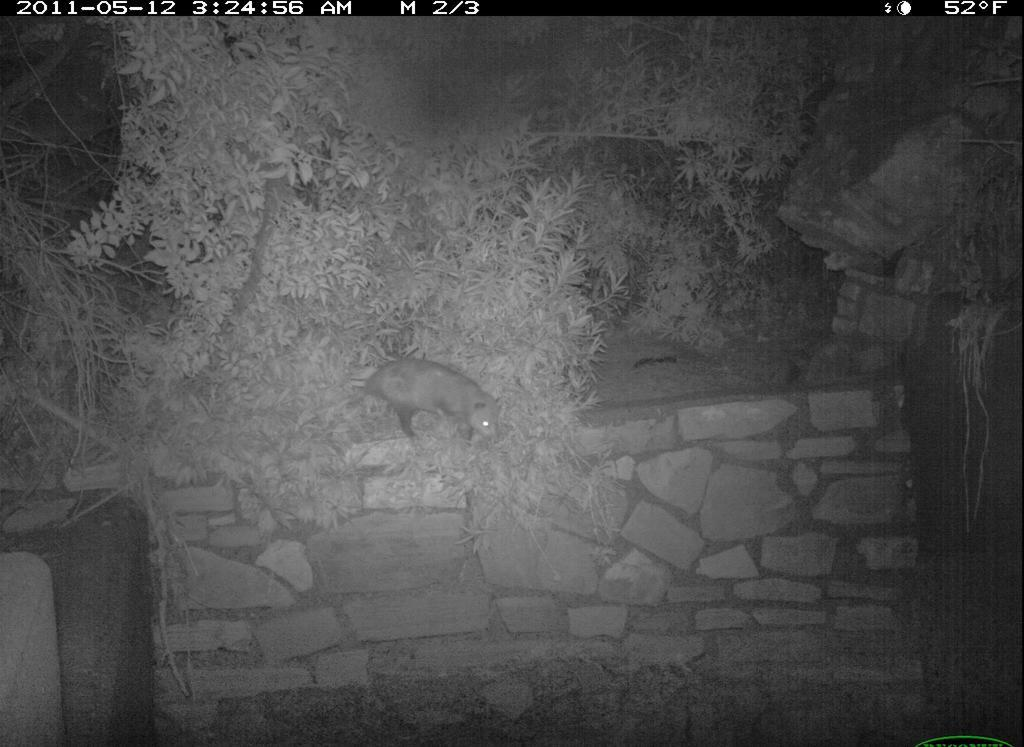opossum: (335, 341, 510, 481)
